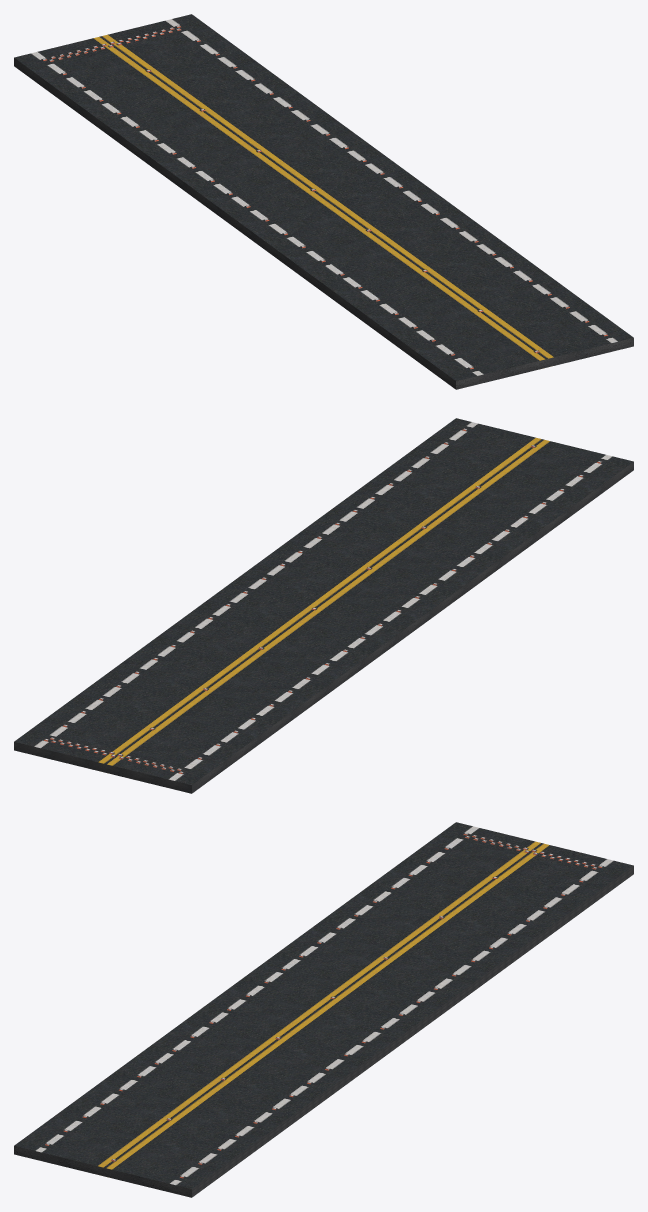
The model's file is road_track.fbx.
The picture shows the model from 3 angles, top to bottom: view 1: azimuth 30°, elevation 25°; view 2: azimuth 150°, elevation 25°; view 3: azimuth 330°, elevation 25°; orthographic projection.
Parts seen in each view (by area): view 1: complet_roadmake:roadplane:pCube1; view 2: complet_roadmake:roadplane:pCube1; view 3: complet_roadmake:roadplane:pCube1.
Boxes of the visible parts, bbox=[...] form: complet_roadmake:roadplane:pCube1: bbox=[14, 14, 633, 389]; complet_roadmake:roadplane:pCube1: bbox=[14, 418, 633, 793]; complet_roadmake:roadplane:pCube1: bbox=[14, 822, 633, 1197].
Bounding box in the file's own units: 315 × 15.9 × 1356.
